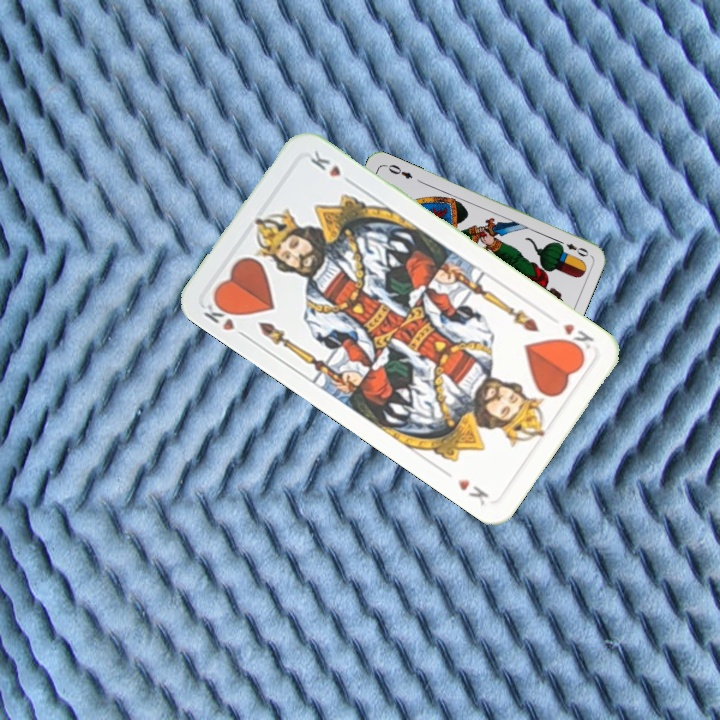EO: (553, 236, 591, 259)
HK: (199, 295, 251, 342), (557, 319, 597, 356)
